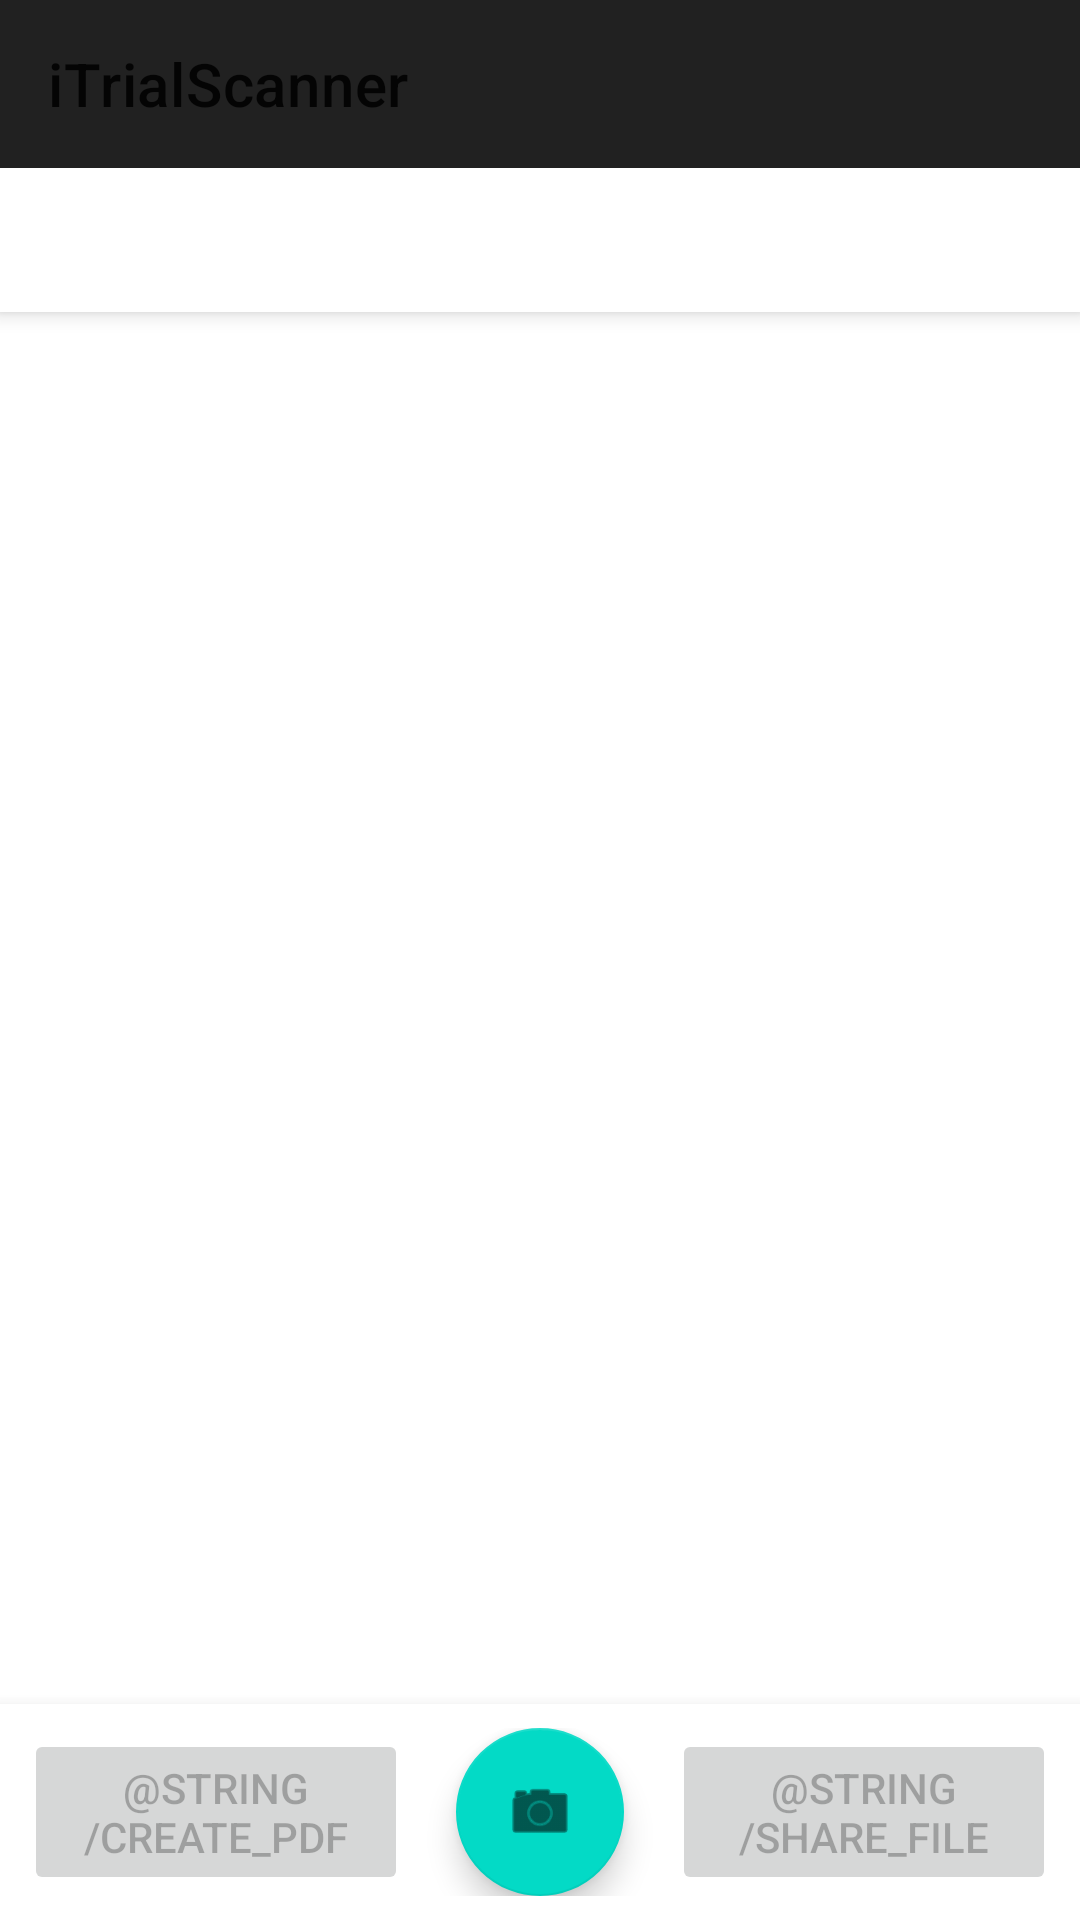

Named icons in this screenshot (1080*1920) and their bounding boxes, (x1, y1, x2, y2):
camera: (456, 1728, 624, 1896)
